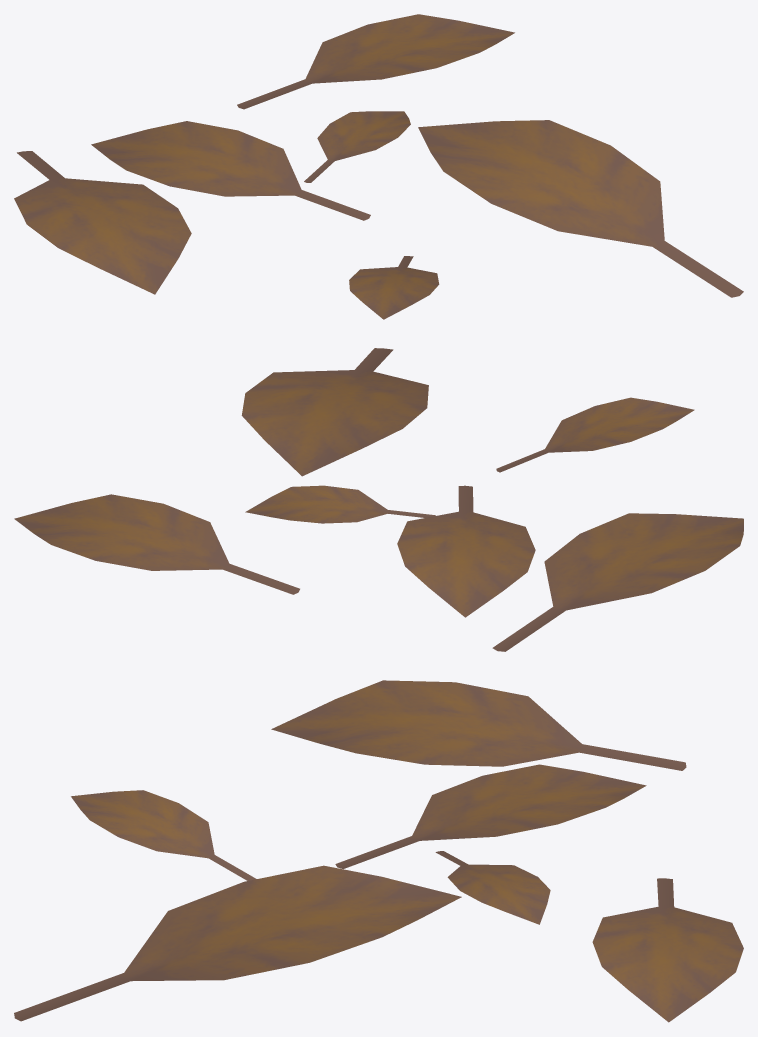
Rendered from hojas.glb.
3 renders of one model, top to bottom at view 1: azimuth 30°, elevation 25°; view 2: azimuth 150°, elevation 25°; view 3: azimuth 270°, elevation 25°, orthographic. The views are drawn at different scales.
Parts seen in each view (by area): view 1: hoja_01.005, hoja_01.003, hoja_01, hoja_01.002, hoja_01.001, hoja_01.004; view 2: hoja_01.003, hoja_01.005, hoja_01.002, hoja_01, hoja_01.004, hoja_01.001; view 3: hoja_01.005, hoja_01.003, hoja_01.002, hoja_01, hoja_01.004, hoja_01.001.
Part boxes in pixels (x1=…): hoja_01.005: x1=418, y1=120, x2=743, y2=297; hoja_01.003: x1=14, y1=151, x2=191, y2=294; hoja_01: x1=91, y1=121, x2=370, y2=220; hoja_01.002: x1=237, y1=14, x2=514, y2=109; hoja_01.001: x1=304, y1=111, x2=410, y2=182; hoja_01.004: x1=349, y1=256, x2=439, y2=319; hoja_01.003: x1=492, y1=513, x2=743, y2=651; hoja_01.005: x1=241, y1=348, x2=428, y2=476; hoja_01.002: x1=14, y1=494, x2=299, y2=594; hoja_01: x1=397, y1=485, x2=535, y2=617; hoja_01.004: x1=496, y1=397, x2=694, y2=472; hoja_01.001: x1=245, y1=485, x2=435, y2=523; hoja_01.005: x1=14, y1=865, x2=461, y2=1021; hoja_01.003: x1=271, y1=680, x2=686, y2=770; hoja_01.002: x1=592, y1=878, x2=743, y2=1022; hoja_01: x1=335, y1=764, x2=646, y2=868; hoja_01.004: x1=71, y1=790, x2=256, y2=880; hoja_01.001: x1=435, y1=851, x2=550, y2=924.
Bounding box in the file's own units: 6.84 × 0.6794 × 6.64.
1 material, 1 textured.
